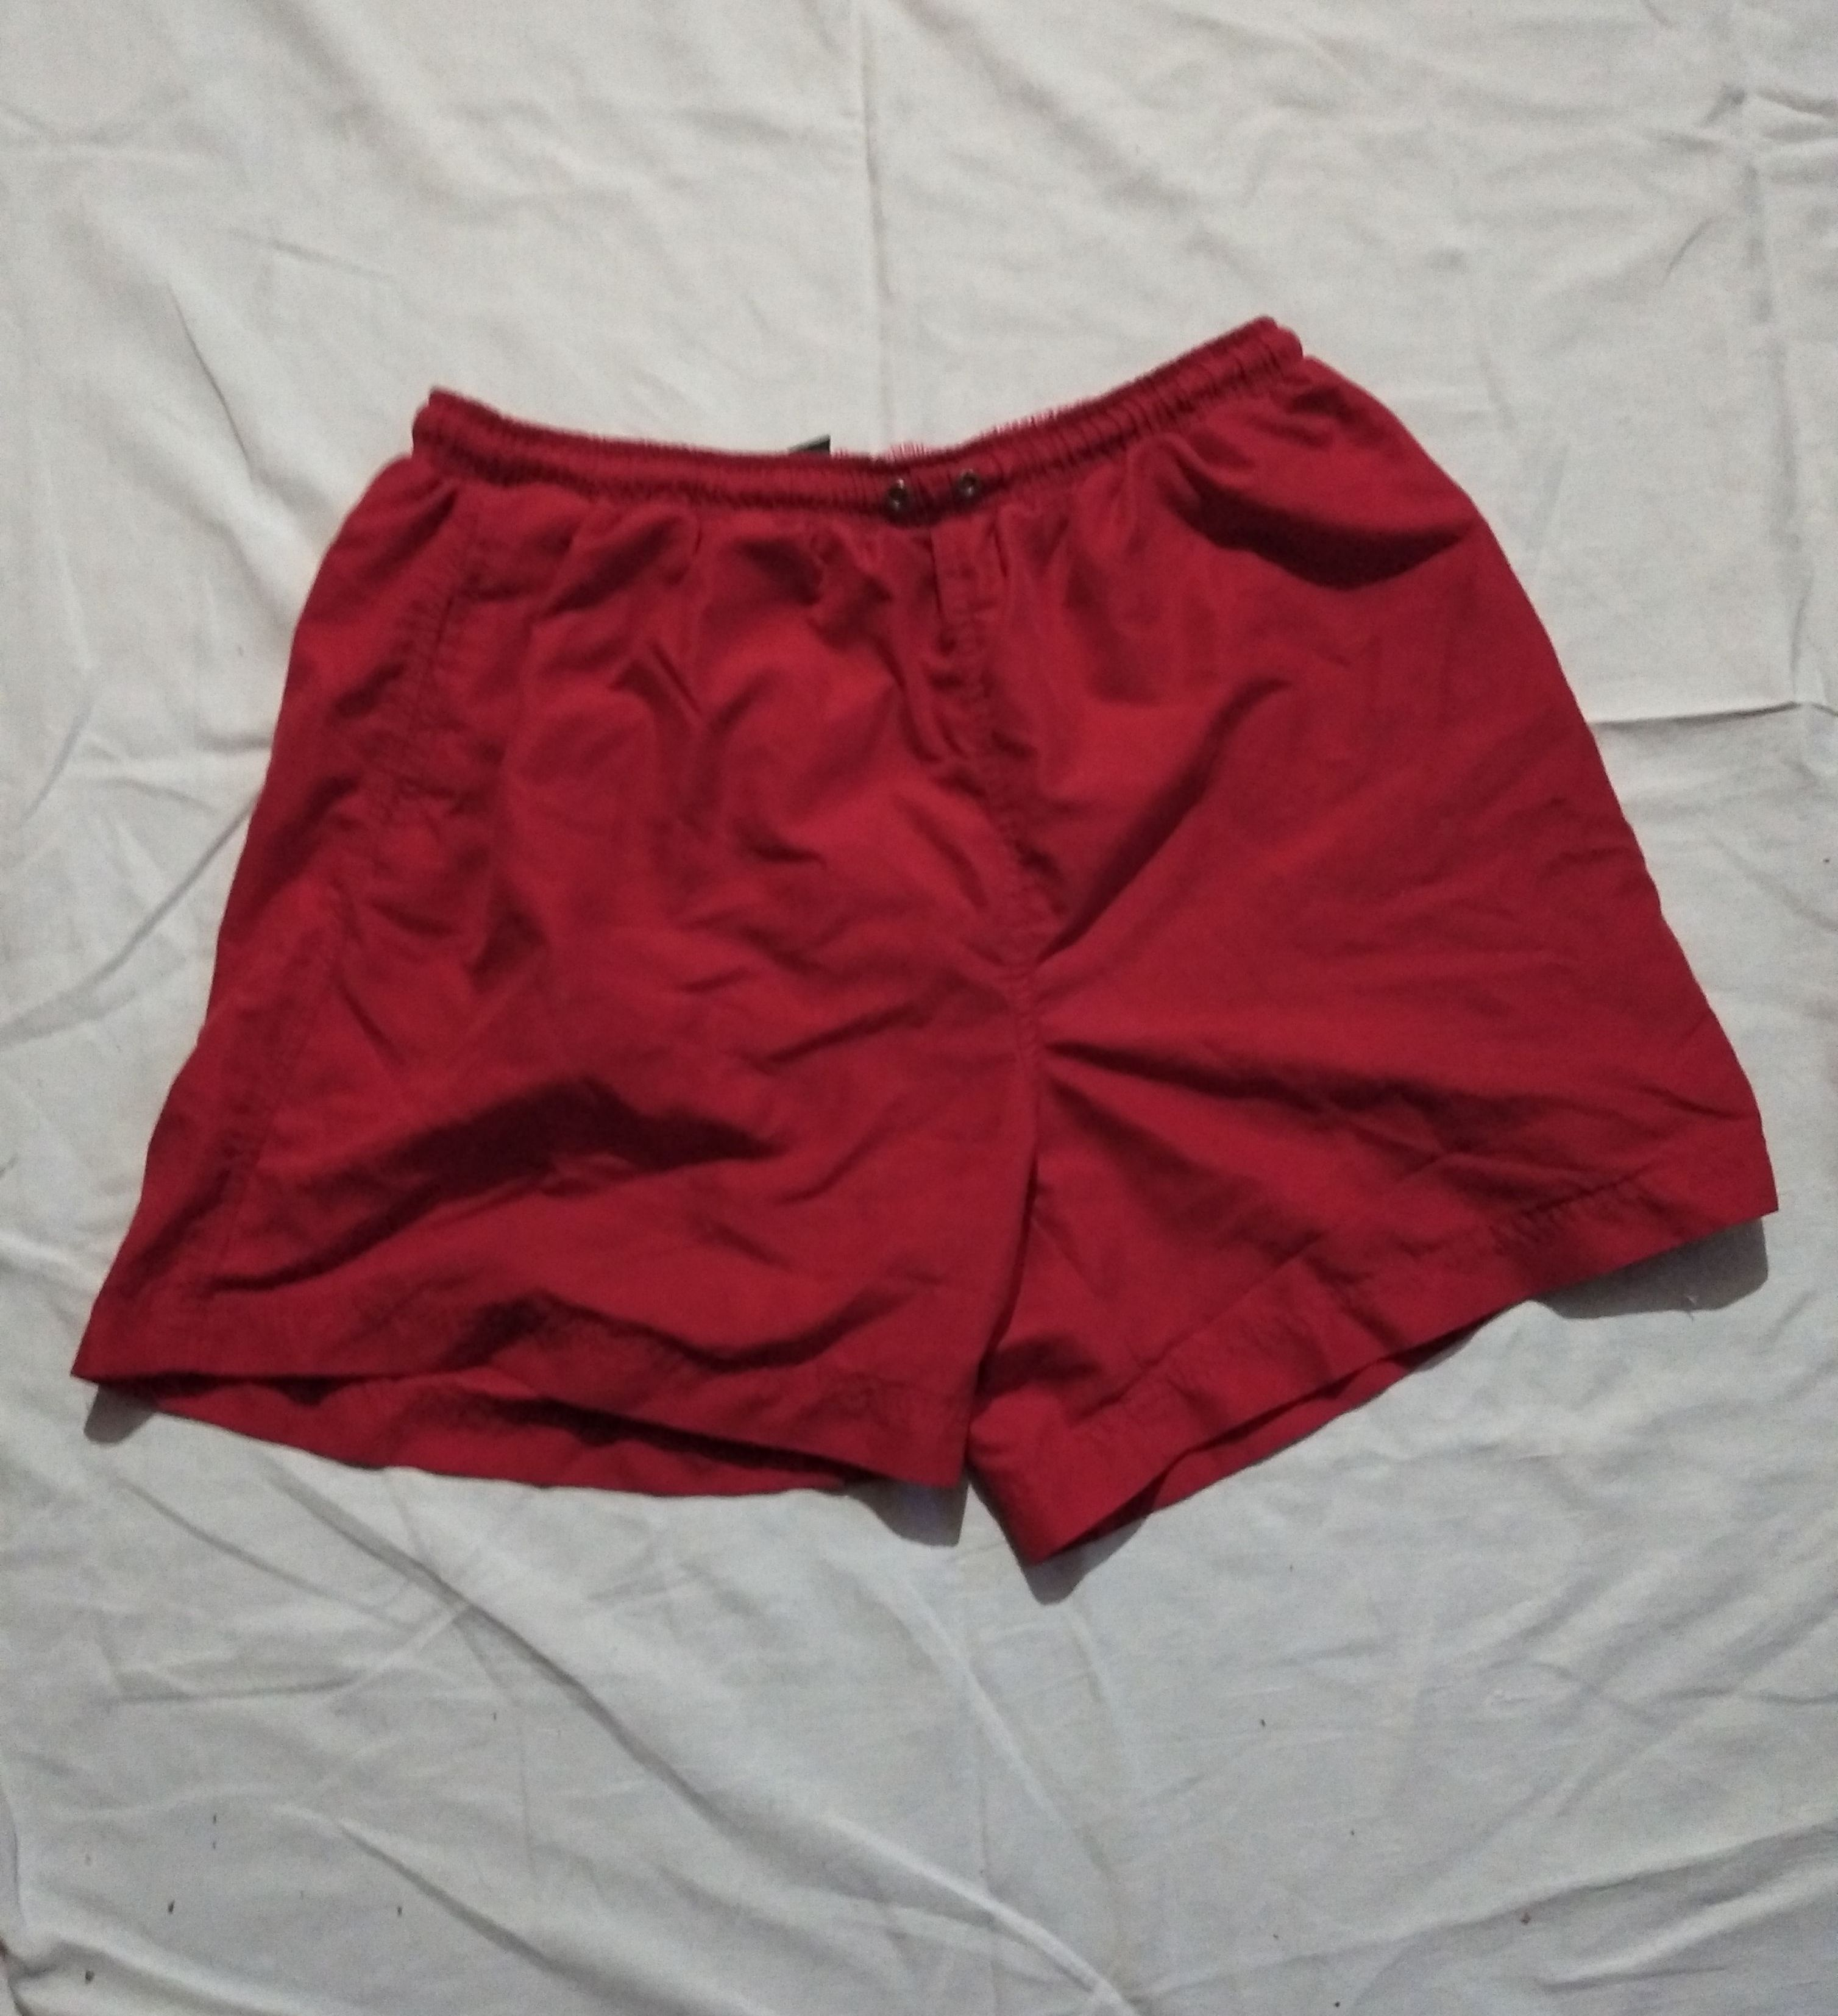clothes: (74, 311, 1782, 1568)
